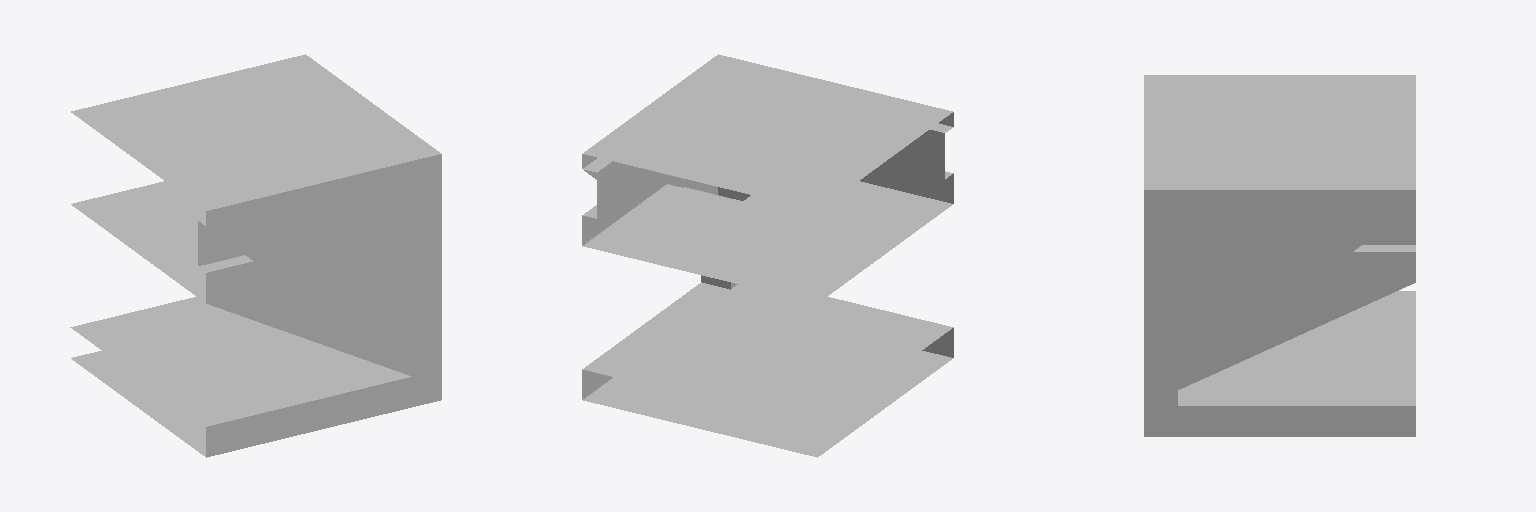
The model's file is corner.obj.
3 views of the same model, side by side, from view 1: azimuth 30°, elevation 25°; view 2: azimuth 150°, elevation 25°; view 3: azimuth 270°, elevation 25° (orthographic).
Visible parts, largest first — view 1: polySurface4 polySurface3 pCube1 polySurface8 general, south polySurface4 polySurface3 pCube1; view 2: polySurface4 polySurface3 pCube1 polySurface8 general, south polySurface4 polySurface3 pCube1, polySurface4 polySurface3 pCube1 east polySurface8; view 3: polySurface4 polySurface3 pCube1 east polySurface8, polySurface4 polySurface3 pCube1 polySurface8 general.
Boxes of the visible parts, x1,y1,x2,y2 form: polySurface4 polySurface3 pCube1 polySurface8 general: [70, 54, 440, 456]; south polySurface4 polySurface3 pCube1: [206, 154, 441, 457]; polySurface4 polySurface3 pCube1 polySurface8 general: [582, 54, 953, 457]; south polySurface4 polySurface3 pCube1: [718, 112, 953, 357]; polySurface4 polySurface3 pCube1 east polySurface8: [582, 154, 717, 399]; polySurface4 polySurface3 pCube1 east polySurface8: [1144, 190, 1415, 436]; polySurface4 polySurface3 pCube1 polySurface8 general: [1144, 75, 1415, 405].
Size of the model in its own units: 16 by 16 by 16.